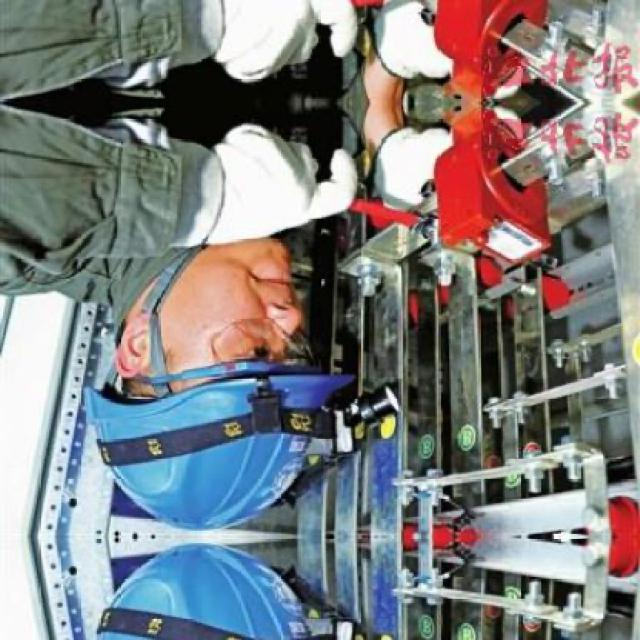con casco: (58, 212, 360, 516)
